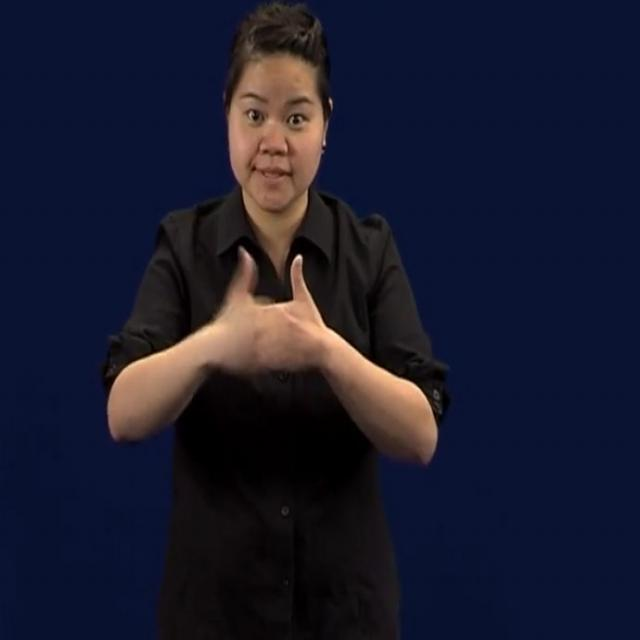bread: (100, 238, 444, 488)
